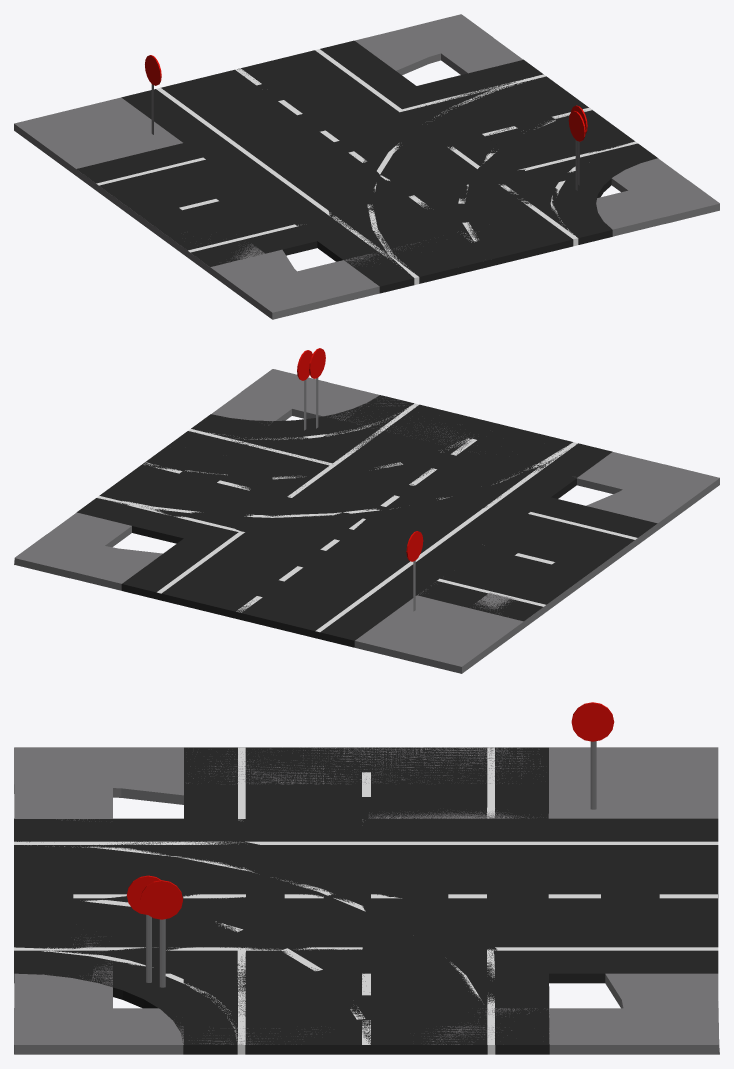
Rendered from roads.fbx.
The picture shows the model from 3 angles, top to bottom: view 1: azimuth 30°, elevation 25°; view 2: azimuth 150°, elevation 25°; view 3: azimuth 270°, elevation 25°; orthographic projection. The views are drawn at different scales.
Visible parts, largest first — view 1: road_intersection_T, road_intersection_L, road_intersection_X, road_stop, road; view 2: road_intersection_T, road_intersection_X, road_intersection_L, road_stop, road; view 3: road_intersection_T, road_intersection_L, road_intersection_X, road_stop, road.
Part boxes in pixels (left/top/right/bottom): road_intersection_T: left=71, top=14, right=716, bottom=285; road_intersection_L: left=14, top=16, right=719, bottom=319; road_intersection_X: left=14, top=14, right=719, bottom=312; road_stop: left=45, top=15, right=719, bottom=319; road: left=46, top=39, right=498, bottom=319; road_intersection_T: left=14, top=348, right=627, bottom=651; road_intersection_X: left=15, top=350, right=719, bottom=673; road_intersection_L: left=15, top=369, right=719, bottom=673; road_stop: left=47, top=375, right=687, bottom=666; road: left=121, top=418, right=719, bottom=657; road_intersection_T: left=15, top=748, right=719, bottom=1054; road_intersection_L: left=14, top=748, right=718, bottom=1054; road_intersection_X: left=14, top=702, right=718, bottom=1054; road_stop: left=14, top=747, right=718, bottom=1054; road: left=75, top=747, right=672, bottom=1054.
Bounding box in the file's own units: 200 × 36.59 × 201.
